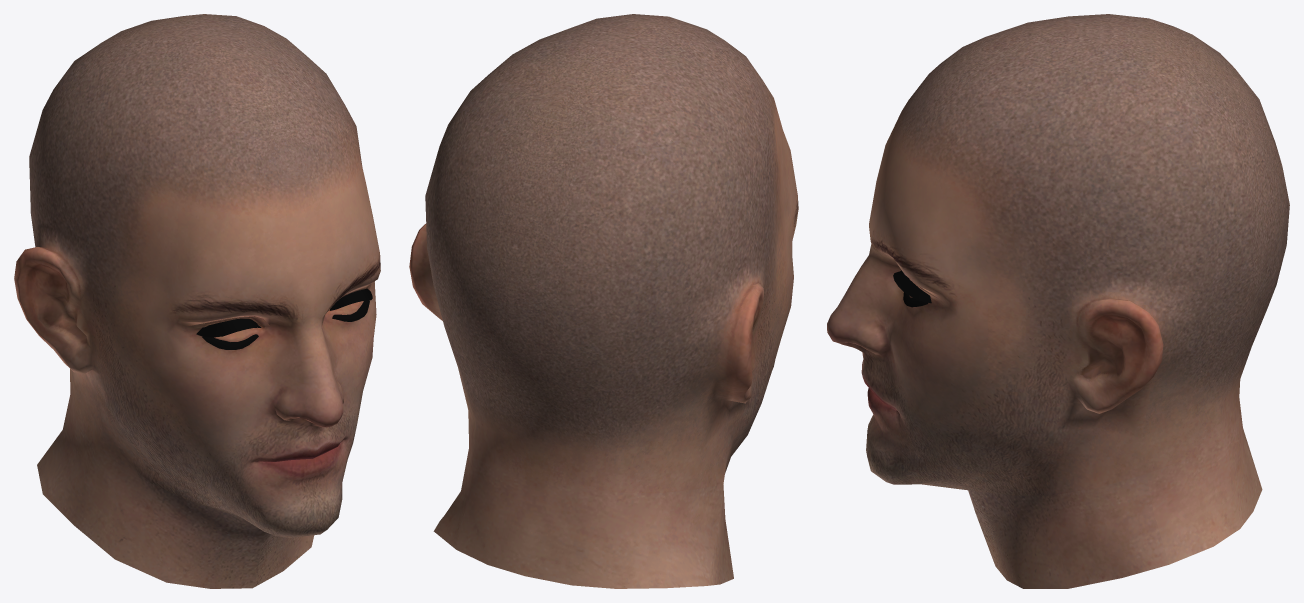
The model's file is SurvivorMale_Head_01_LOD0.glb.
3 renders of one model, left to right at view 1: azimuth 30°, elevation 25°; view 2: azimuth 150°, elevation 25°; view 3: azimuth 270°, elevation 25°, orthographic. The views are drawn at different scales.
Visible parts, largest first — view 1: Hoodie; view 2: Hoodie; view 3: Hoodie.
Part boxes in pixels (x1,y1,x2,y2): Hoodie: (14, 14, 380, 588); Hoodie: (409, 14, 798, 588); Hoodie: (827, 14, 1289, 588).
Size of the model in its own units: 0.1845 by 0.2885 by 0.2255.
Materials: 1 (1 with a texture image).
